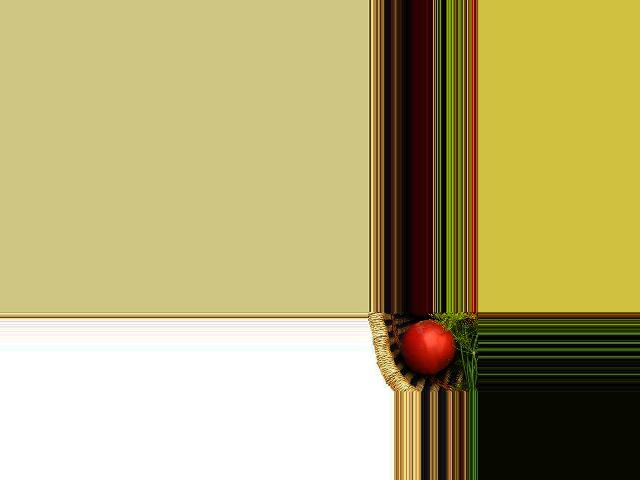tomato: (401, 320, 457, 374)
